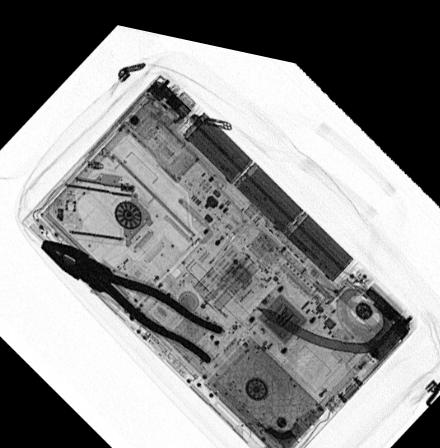Pliers: (36, 234, 225, 356)
